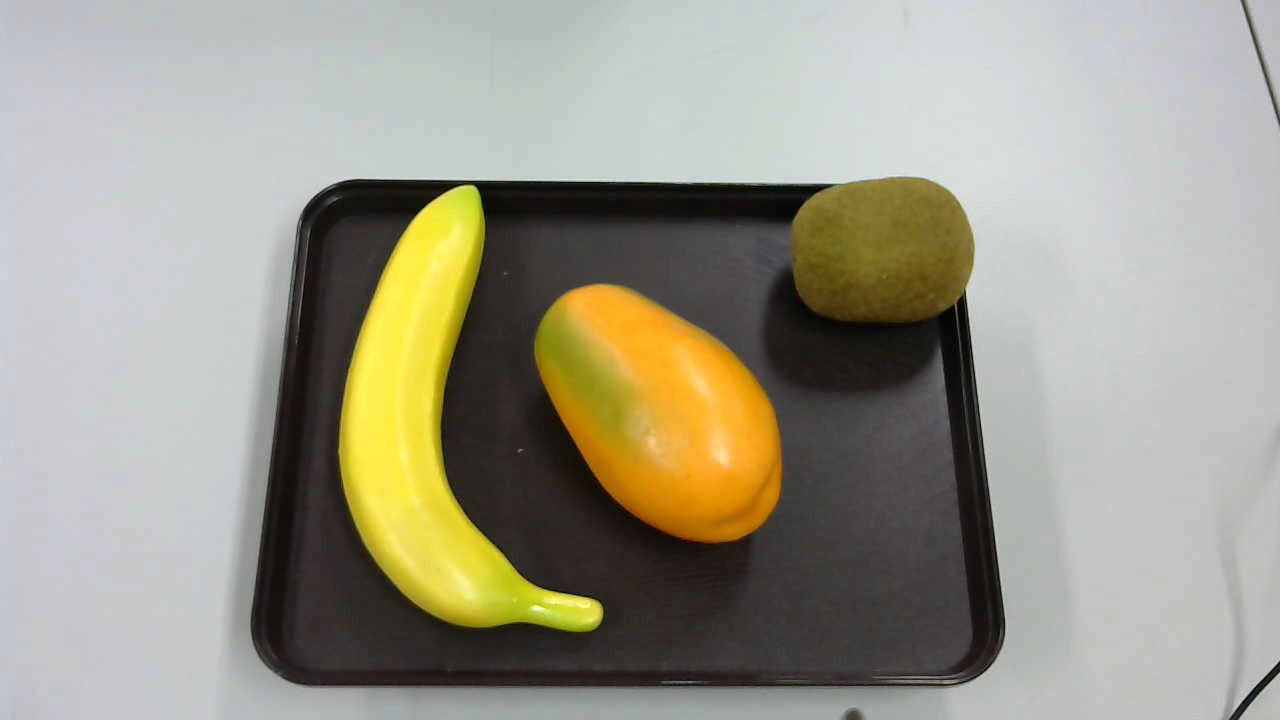banana: (337, 180, 606, 636)
kiwi fruit: (784, 177, 979, 329)
papya: (525, 270, 788, 545)
